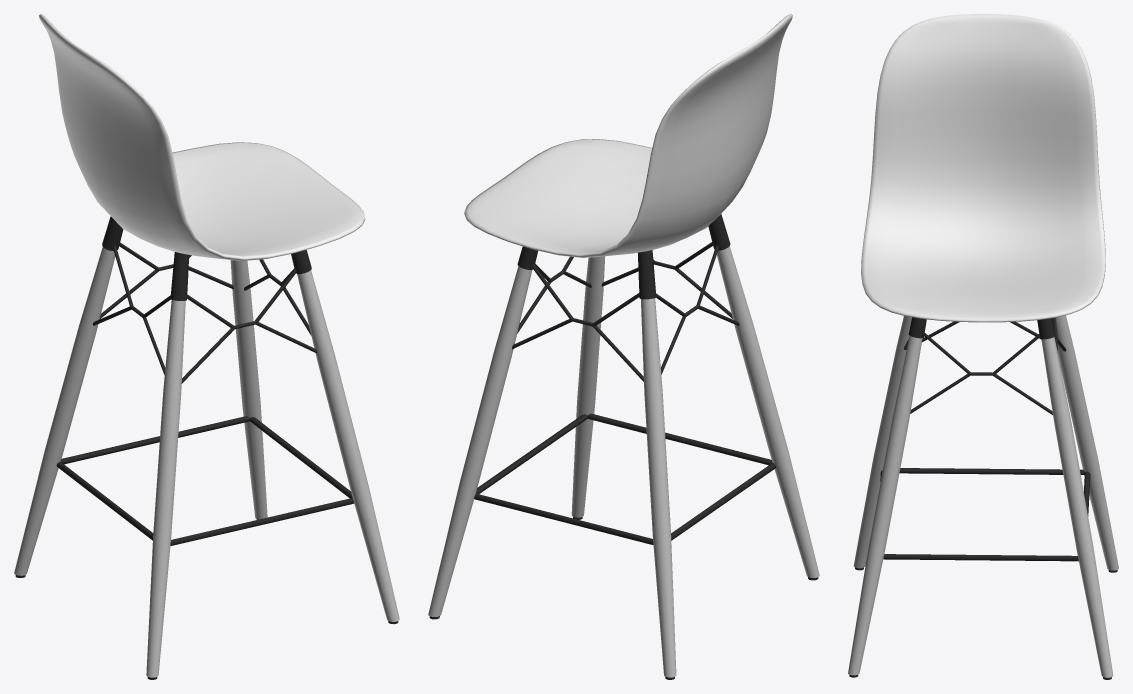
File: chair1.fbx
The picture shows the model from 3 angles, left to right: view 1: azimuth 30°, elevation 25°; view 2: azimuth 150°, elevation 25°; view 3: azimuth 270°, elevation 25°; orthographic projection. The views are drawn at different scales.
Parts seen in each view (by area): view 1: chair25; view 2: chair25; view 3: chair25.
Part boxes in pixels (x1,y1,x2,y2): chair25: [14, 14, 399, 679]; chair25: [428, 14, 819, 679]; chair25: [848, 14, 1118, 679].
Size of the model in its own units: 46.79 by 49.07 by 104.
